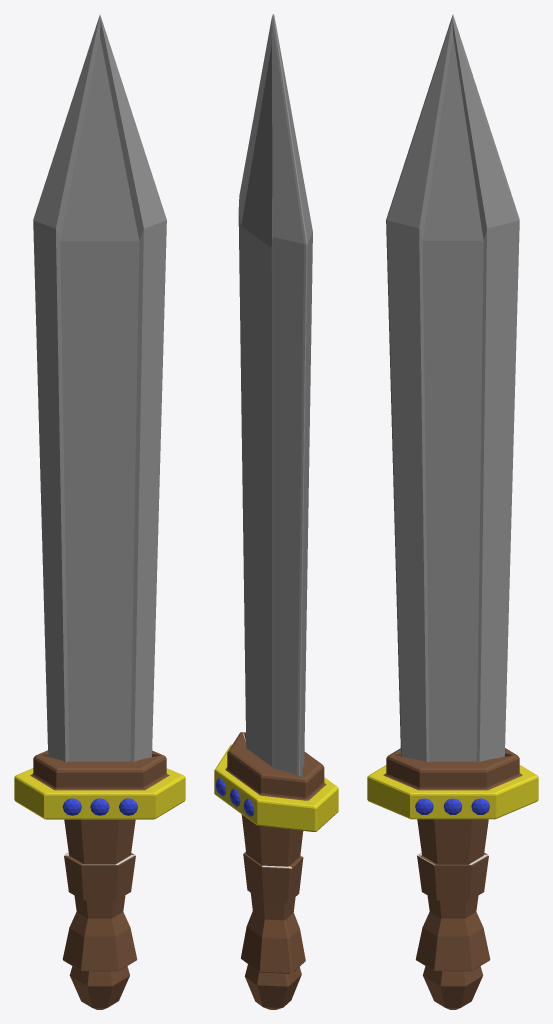
3 renders of one model, left to right at view 1: azimuth 90°, elevation 25°; view 2: azimuth 210°, elevation 25°; view 3: azimuth 270°, elevation 25°, orthographic.
Visible parts, largest first — view 1: Sword, Gems; view 2: Sword, Gems; view 3: Sword, Gems.
Part boxes in pixels (x1,y1,x2,y2): Sword: [14, 14, 185, 1009]; Gems: [62, 798, 137, 815]; Sword: [214, 14, 338, 1009]; Gems: [215, 778, 253, 816]; Sword: [367, 14, 538, 1009]; Gems: [415, 798, 489, 814].
Size of the model in its own units: 122 by 1390 by 217.
